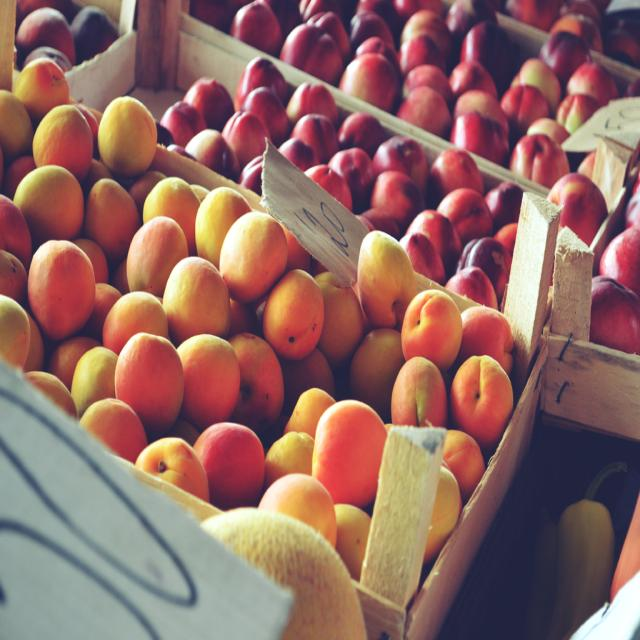Peach: (0, 56, 512, 579), (156, 57, 610, 309), (236, 0, 640, 187), (504, 0, 639, 69), (15, 0, 119, 73), (592, 274, 640, 354), (598, 228, 640, 295), (624, 189, 640, 230)
